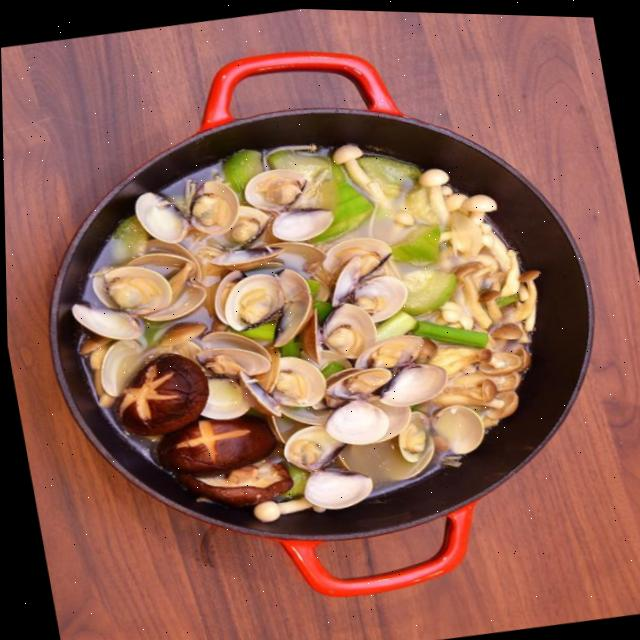Wet: (68, 141, 538, 511)
